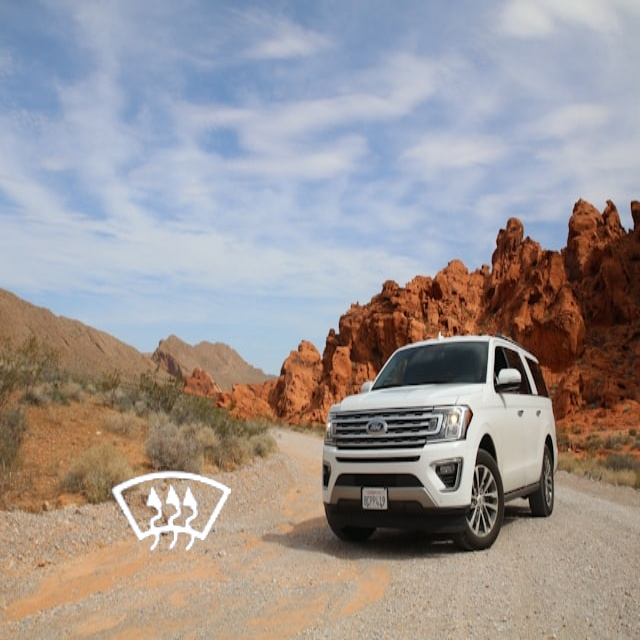symbol: (77, 417, 270, 610)
